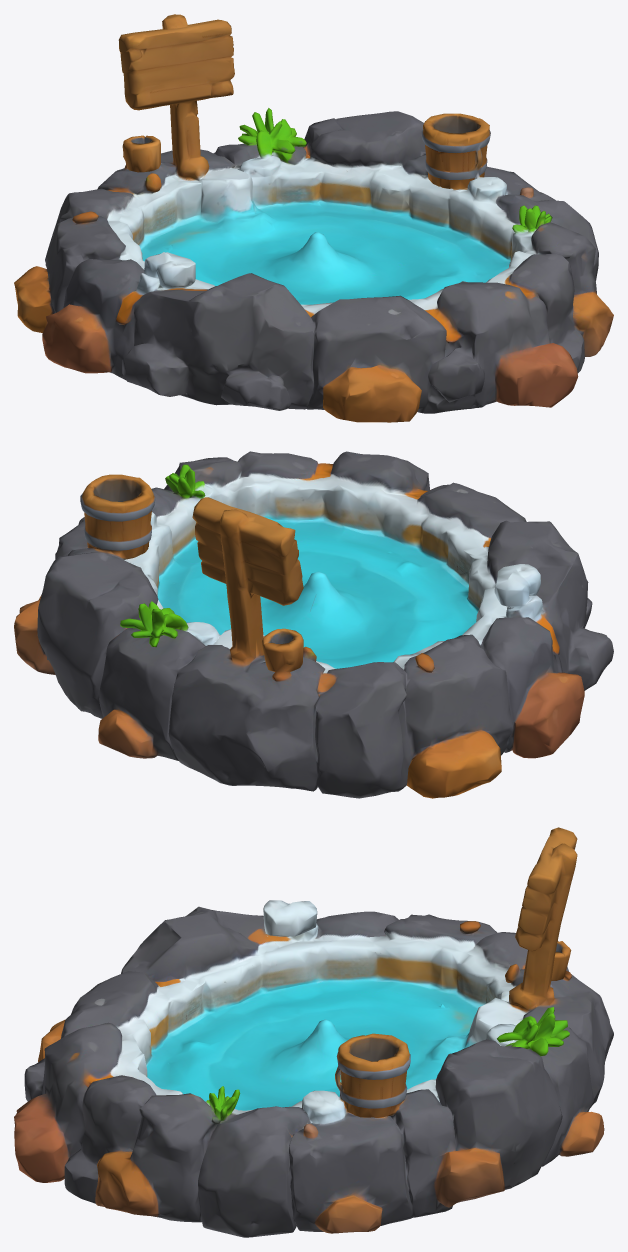
Rendered from hot_spring_raw.glb.
The picture shows the model from 3 angles, top to bottom: view 1: azimuth 30°, elevation 25°; view 2: azimuth 150°, elevation 25°; view 3: azimuth 270°, elevation 25°; orthographic projection. The views are drawn at different scales.
Visible parts, largest first — view 1: tripo_node_6b3bce5e-5680-4fa7-8414-e64330400126; view 2: tripo_node_6b3bce5e-5680-4fa7-8414-e64330400126; view 3: tripo_node_6b3bce5e-5680-4fa7-8414-e64330400126.
Part boxes in pixels (x1,y1,x2,y2): tripo_node_6b3bce5e-5680-4fa7-8414-e64330400126: [14, 14, 613, 422]; tripo_node_6b3bce5e-5680-4fa7-8414-e64330400126: [14, 451, 613, 798]; tripo_node_6b3bce5e-5680-4fa7-8414-e64330400126: [14, 827, 613, 1237].
Bounding box in the file's own units: 1 × 0.4698 × 0.9952.
Materials: 1 (1 with a texture image).
